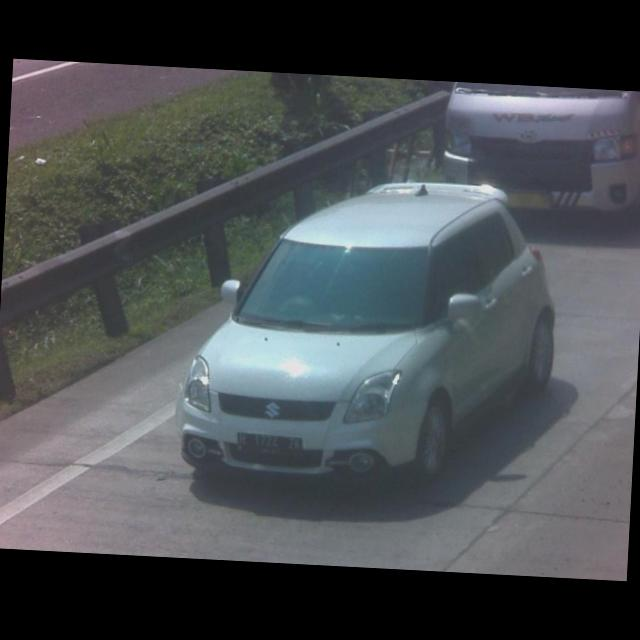plate: (234, 430, 304, 461)
